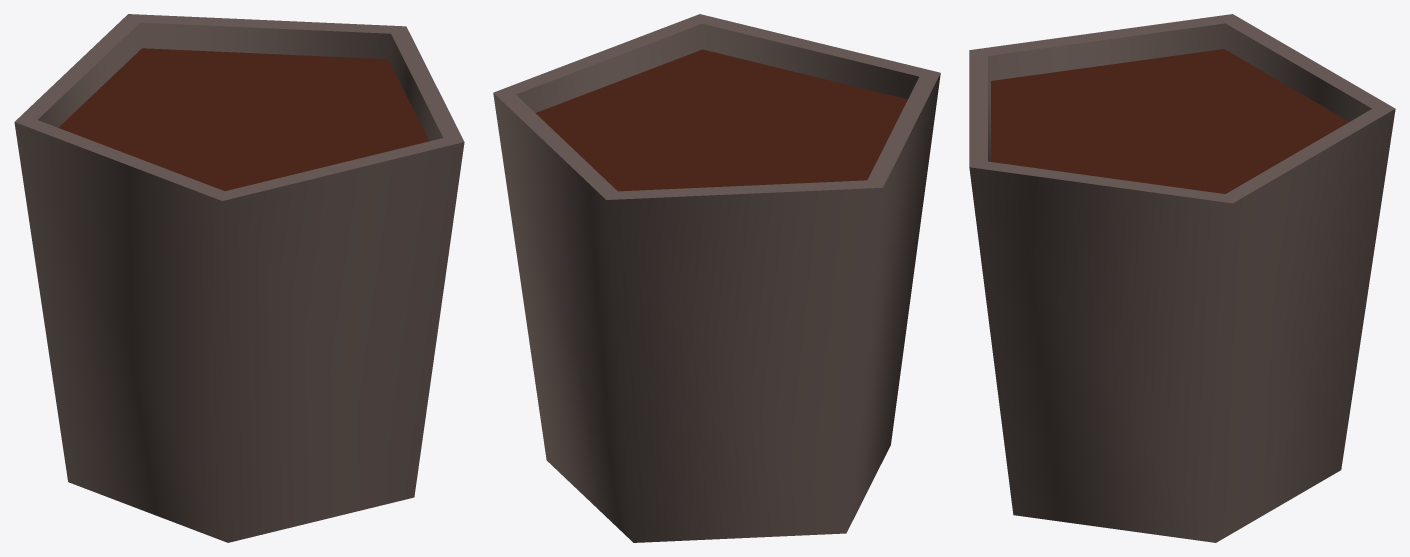
The model's file is PentagonPot.fbx.
3 renders of one model, left to right at view 1: azimuth 30°, elevation 25°; view 2: azimuth 150°, elevation 25°; view 3: azimuth 270°, elevation 25°, orthographic.
Parts seen in each view (by area): view 1: PentagonPot; view 2: PentagonPot; view 3: PentagonPot.
Boxes of the visible parts, <box> form: PentagonPot: <box>14,14,464,542</box>; PentagonPot: <box>493,14,940,542</box>; PentagonPot: <box>969,14,1395,542</box>.
Bounding box in the file's own units: 37.09 × 35.28 × 33.
